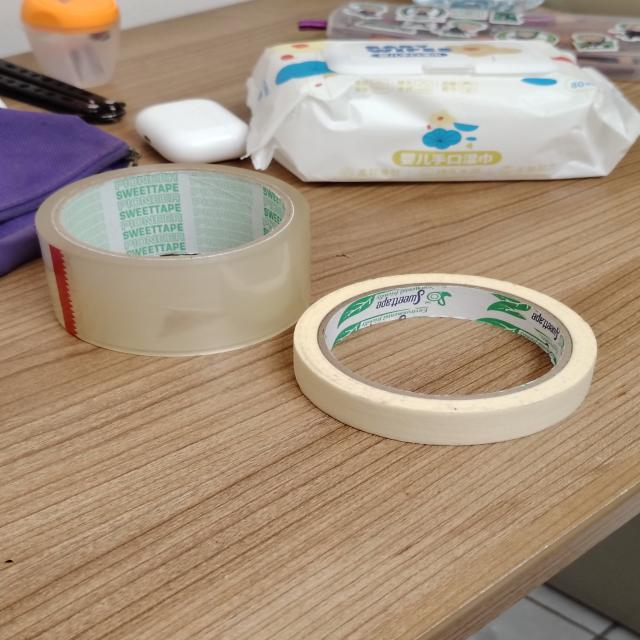tape: (36, 164, 310, 356), (294, 273, 597, 445)
